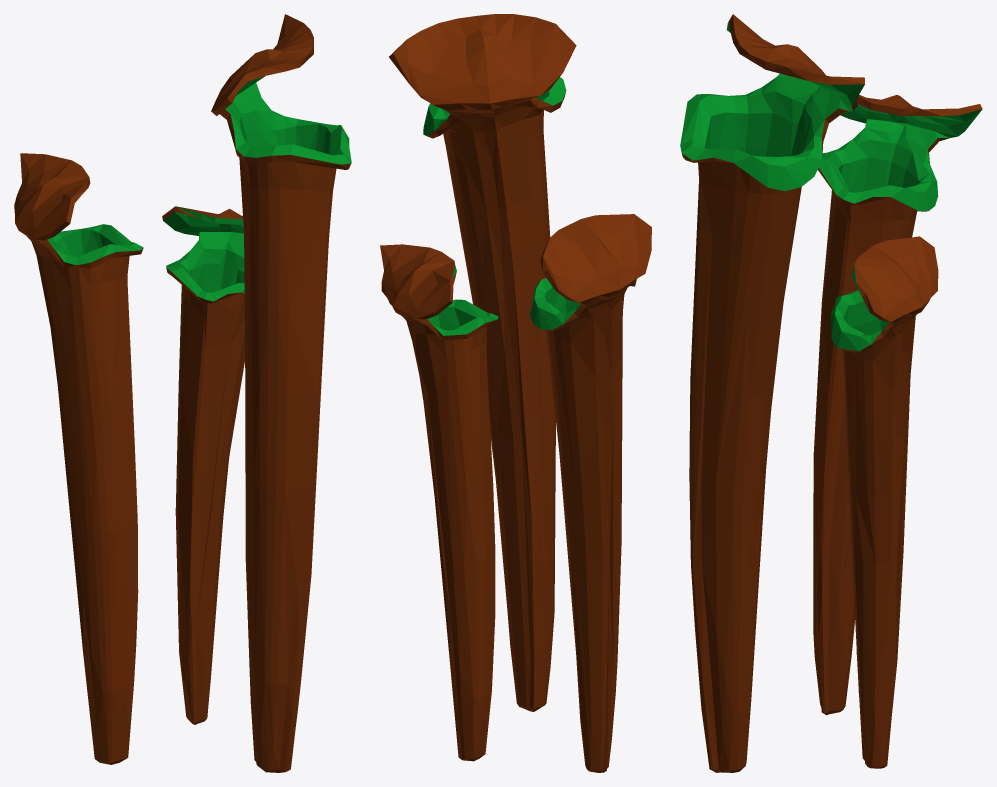
The model's file is ShrubTrumpet01.fbx.
The picture shows the model from 3 angles, left to right: view 1: azimuth 30°, elevation 25°; view 2: azimuth 150°, elevation 25°; view 3: azimuth 270°, elevation 25°; orthographic projection. The views are drawn at different scales.
Visible parts, largest first — view 1: ShrubTrumpet01; view 2: ShrubTrumpet01; view 3: ShrubTrumpet01.
Part boxes in pixels (x1,y1,x2,y2): ShrubTrumpet01: (14, 14, 351, 772); ShrubTrumpet01: (380, 14, 651, 772); ShrubTrumpet01: (680, 14, 982, 772).
Size of the model in its own units: 53.04 by 133 by 48.91.
